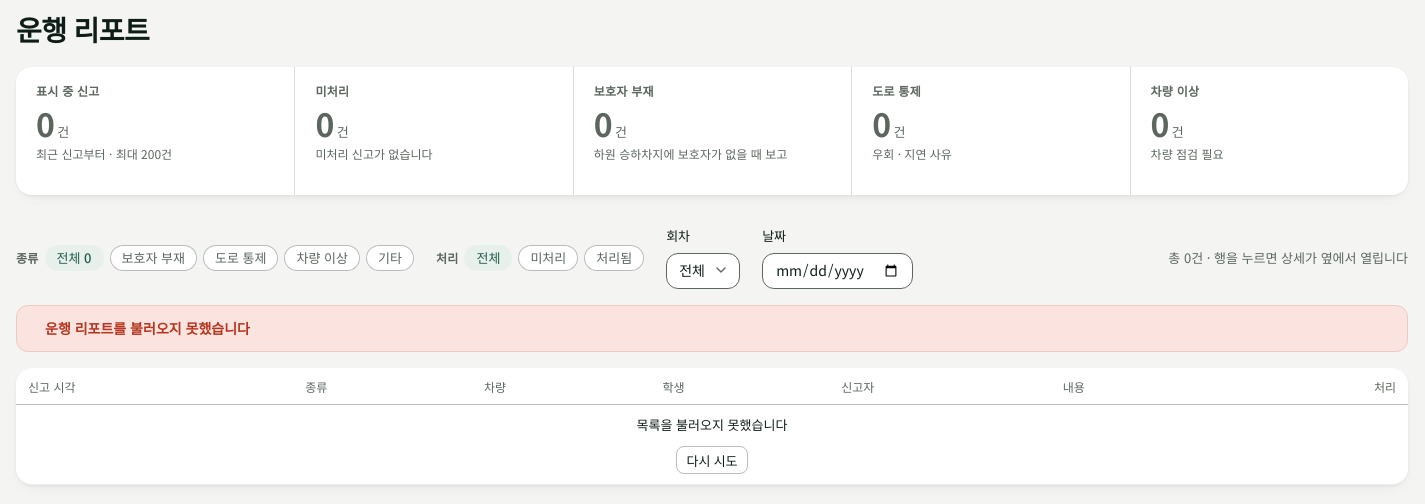
Test: ReportList — 다시 시도 › 조회에 실패하면 다시 시도 버튼이 있고, 누르면 같은 조건으로 다시 조회해 목록이 나온다
The width and height of the screenshot is (1425, 504).
Expected: the text "운행 리포트를 불러오지 못했습니다" is shown, [45,318,250,338]
What coordinates should you click on to do the following:
click the button "다시 시도"
I would click on:
 (712, 460)
Its box is [676,446,748,474].
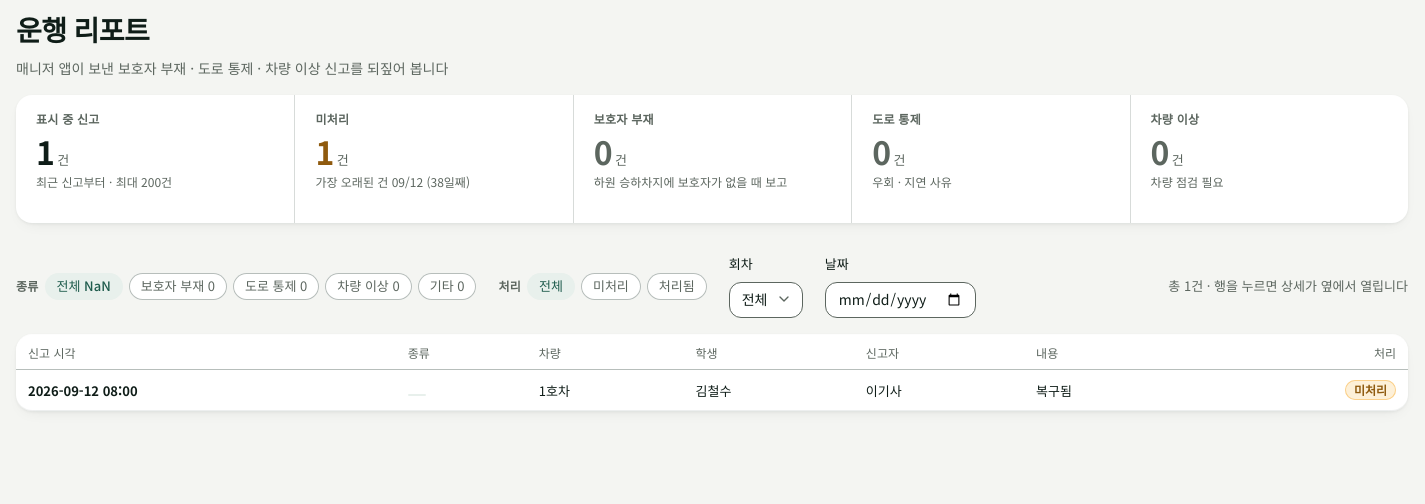
Now the text "복구됨" is shown, box [1024,370,1194,410]
